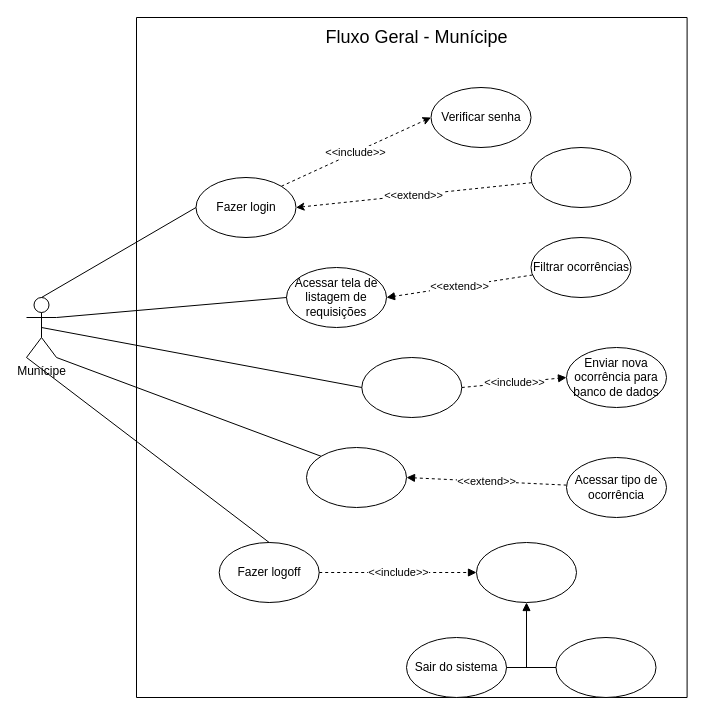
Image size: 705x715. Some labels were removed from this diagram. The centre of each missing label's shape, as x and y in pixels:
"Cadastrar nova requisição" goes at (411,387).
"Confirmar que quer sair do sistema" goes at (605,667).
"Exibir erro de login" goes at (580,177).
"Tela de ajuda" goes at (356,477).
"Tela de confirmação para fazer logoff" goes at (526,572).
